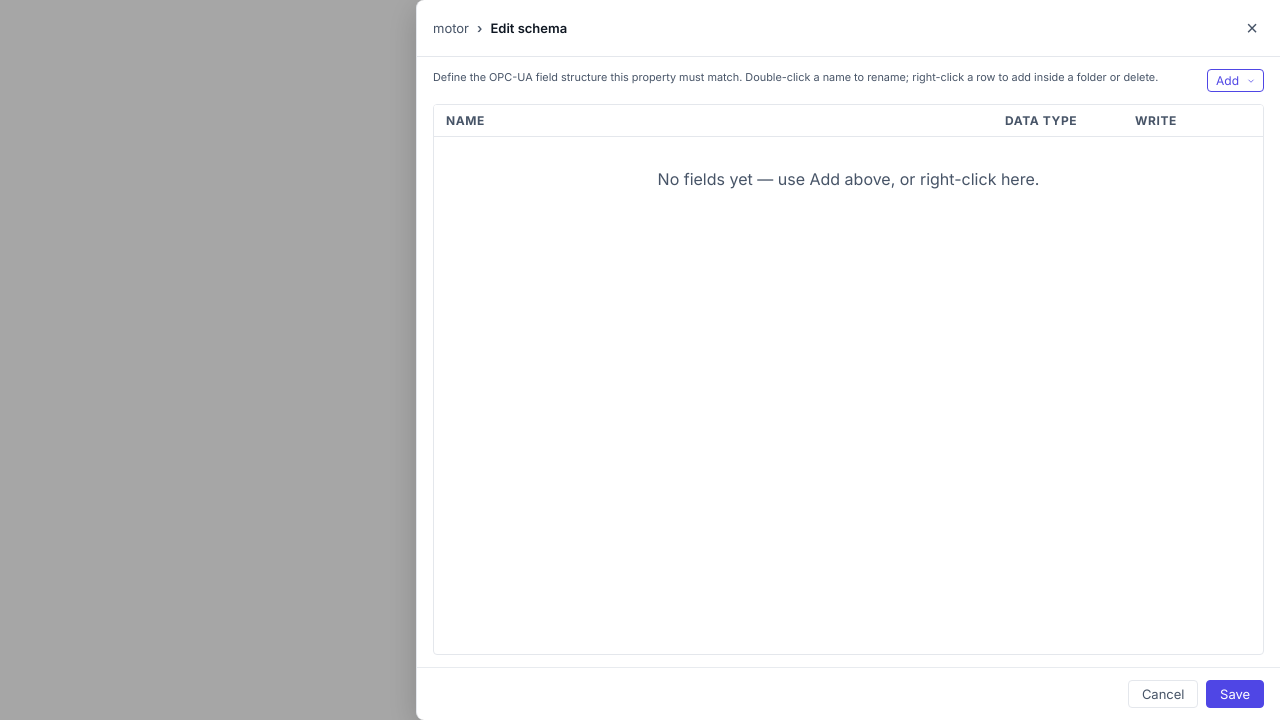
Test: StructSchemaModal › right-clicking the empty table adds a root-level variable via the context menu
Right-click the element with class "struct-schema-table": (848, 380) left=433, top=104, right=1264, bottom=655
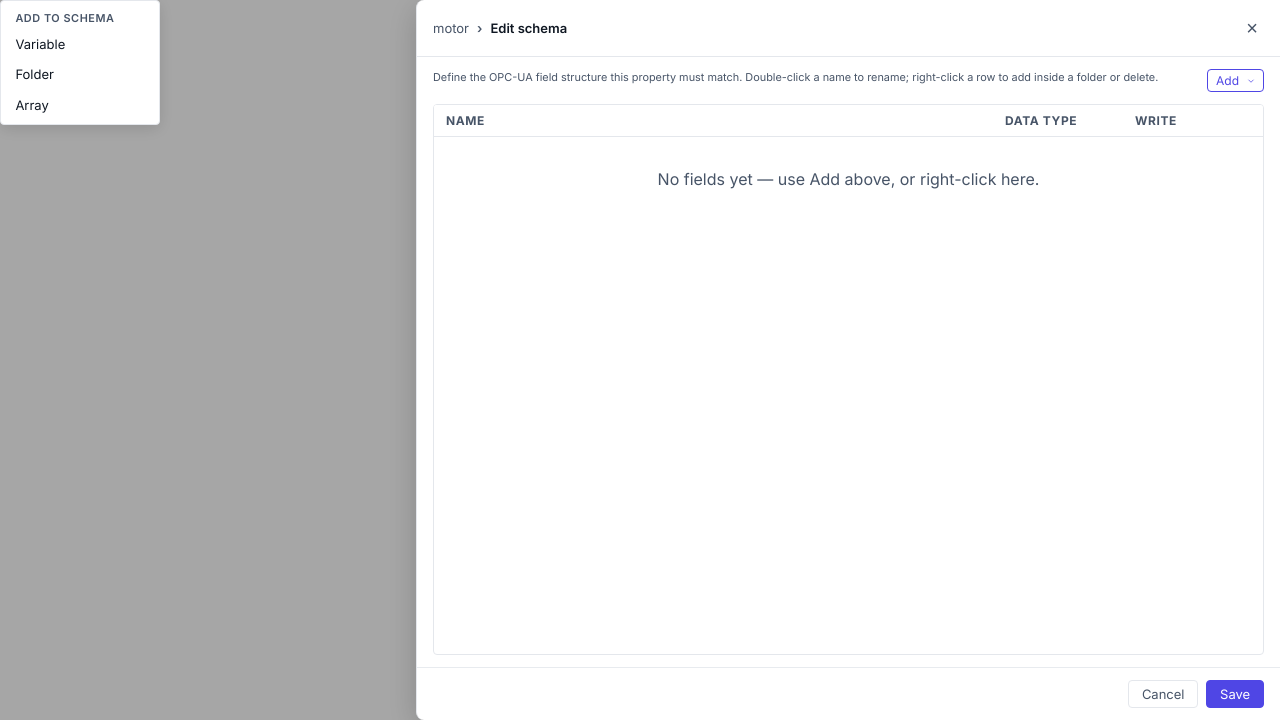
Expected: the text "Add to schema" is shown, left=15, top=11, right=114, bottom=25
Click the button "Variable": (80, 44) left=1, top=29, right=159, bottom=59
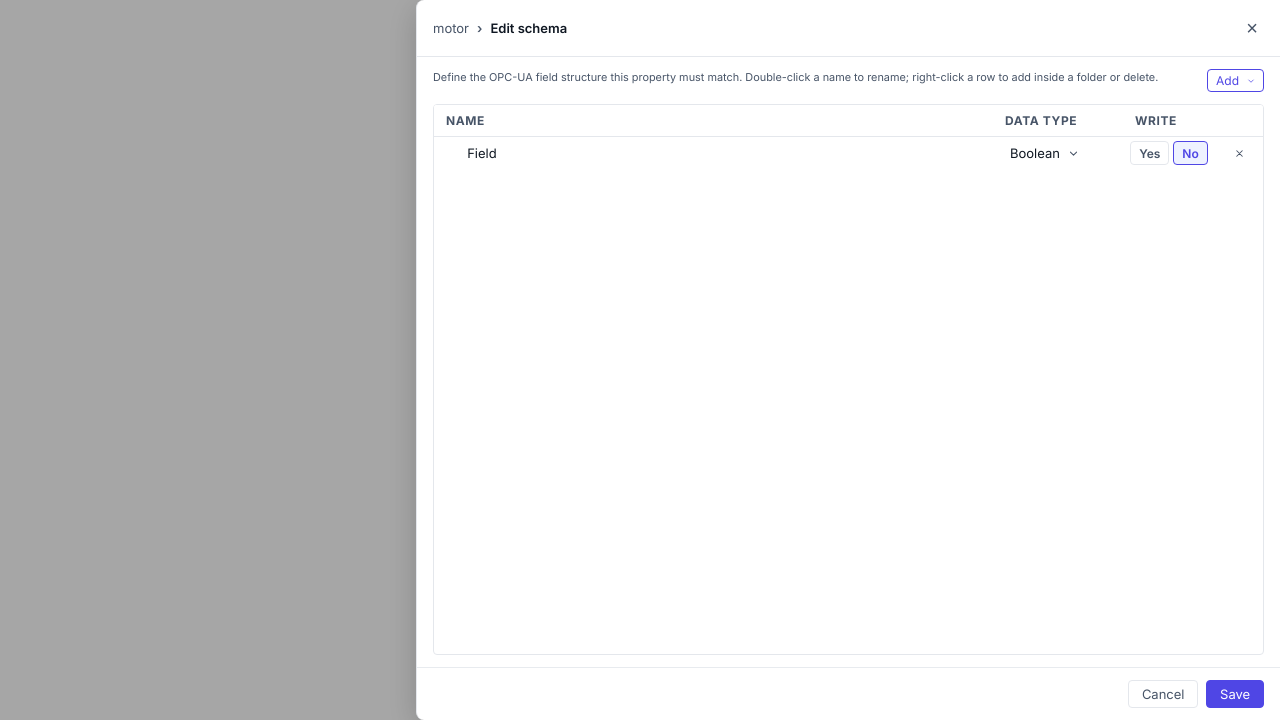
Expected: the text "Field" is shown, left=467, top=145, right=497, bottom=161
Expected: the text "No fields yet — use Add above, or right-click here." is gone
